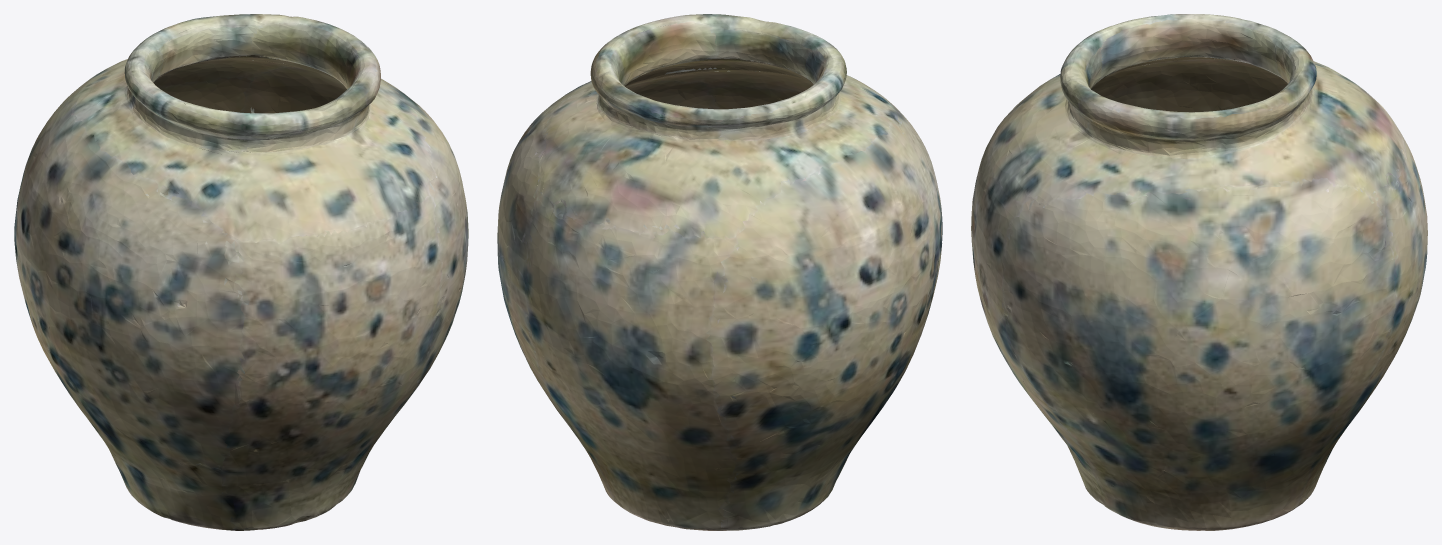
Rendered from hm-earthenware-pot-blue-speckle.glb.
3 renders of one model, left to right at view 1: azimuth 30°, elevation 25°; view 2: azimuth 150°, elevation 25°; view 3: azimuth 270°, elevation 25°, orthographic.
Visible parts, largest first — view 1: Object_2; view 2: Object_2; view 3: Object_2.
Part boxes in pixels (x1=…): Object_2: x1=14, y1=14, x2=468, y2=530; Object_2: x1=497, y1=14, x2=942, y2=530; Object_2: x1=971, y1=14, x2=1427, y2=530.
Size of the model in its own units: 0.1652 by 0.172 by 0.1677.
Materials: 1 (1 with a texture image).
